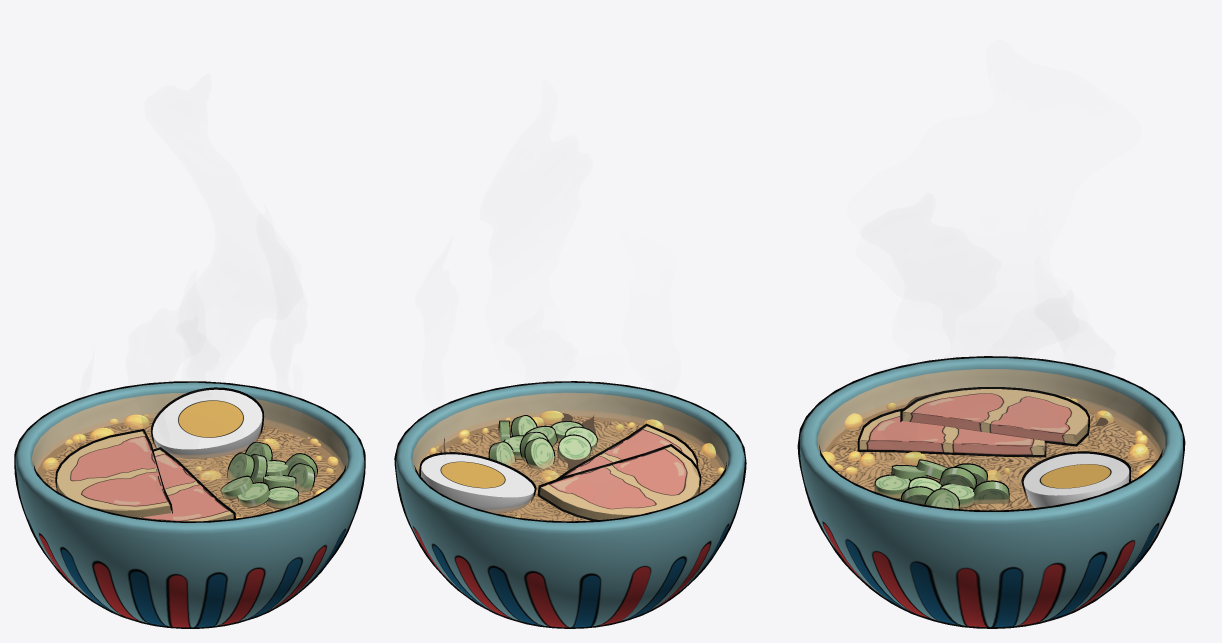
The model's file is ramen.glb.
3 views of the same model, side by side, from view 1: azimuth 30°, elevation 25°; view 2: azimuth 150°, elevation 25°; view 3: azimuth 270°, elevation 25° (orthographic). The views are drawn at different scales.
Parts seen in each view (by area): view 1: defaultMaterial (×2); view 2: defaultMaterial (×2); view 3: defaultMaterial (×2).
Boxes of the visible parts, <box> form: defaultMaterial (×2): <box>14,381,365,628</box>; defaultMaterial (×2): <box>394,381,746,628</box>; defaultMaterial (×2): <box>797,356,1185,628</box>.
Size of the model in its own units: 222 by 377 by 248.
3 materials, 2 textured.
